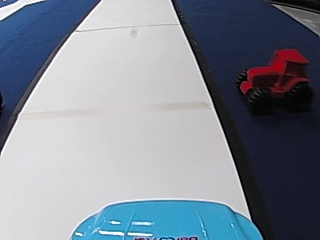tractor: (233, 46, 314, 115)
